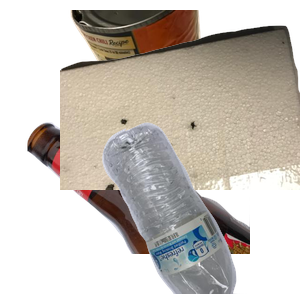glass: (25, 120, 265, 300)
metal: (68, 10, 265, 131)
plastic: (100, 120, 300, 300)
trash: (60, 23, 300, 203)
